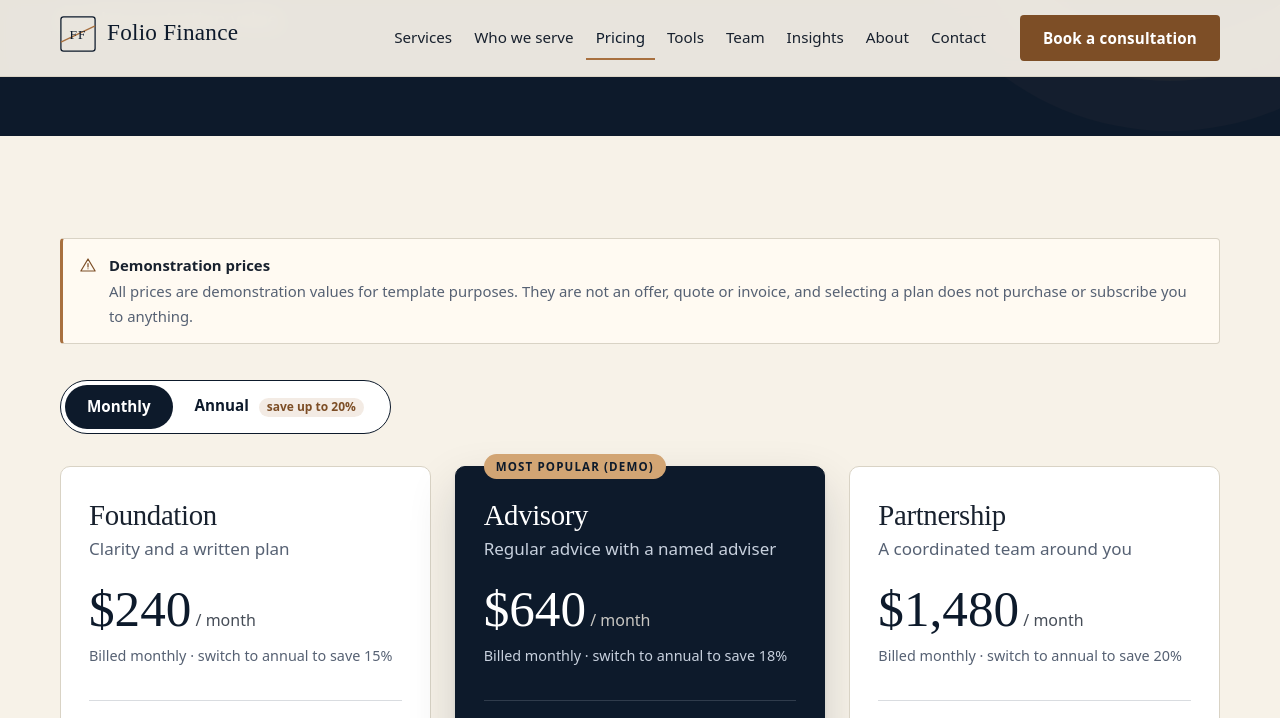
Test case: pricing › toggles billing cycle and recalculates every plan
(page scrolled)
Expected: the text with test id "price-advisory" reads "$640", [484,580,586,637]
Click the button "Annual save up to 20%" at (279, 406), box [172,384,386,428]
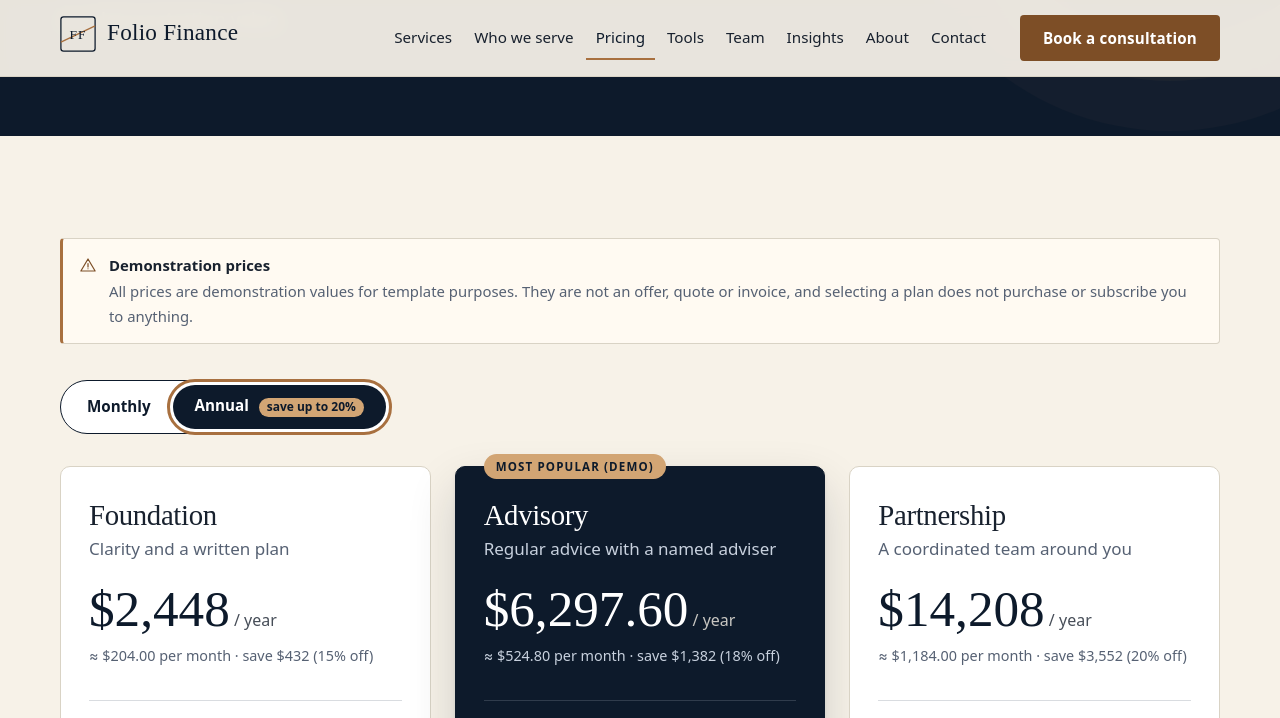
Expected: the text with test id "price-advisory" reads "$6,297.60", [484,580,688,637]
Expected: the text with test id "price-foundation" reads "$2,448", [89,580,230,637]
Click the button "Monthly" at (119, 406), box [65,384,172,428]
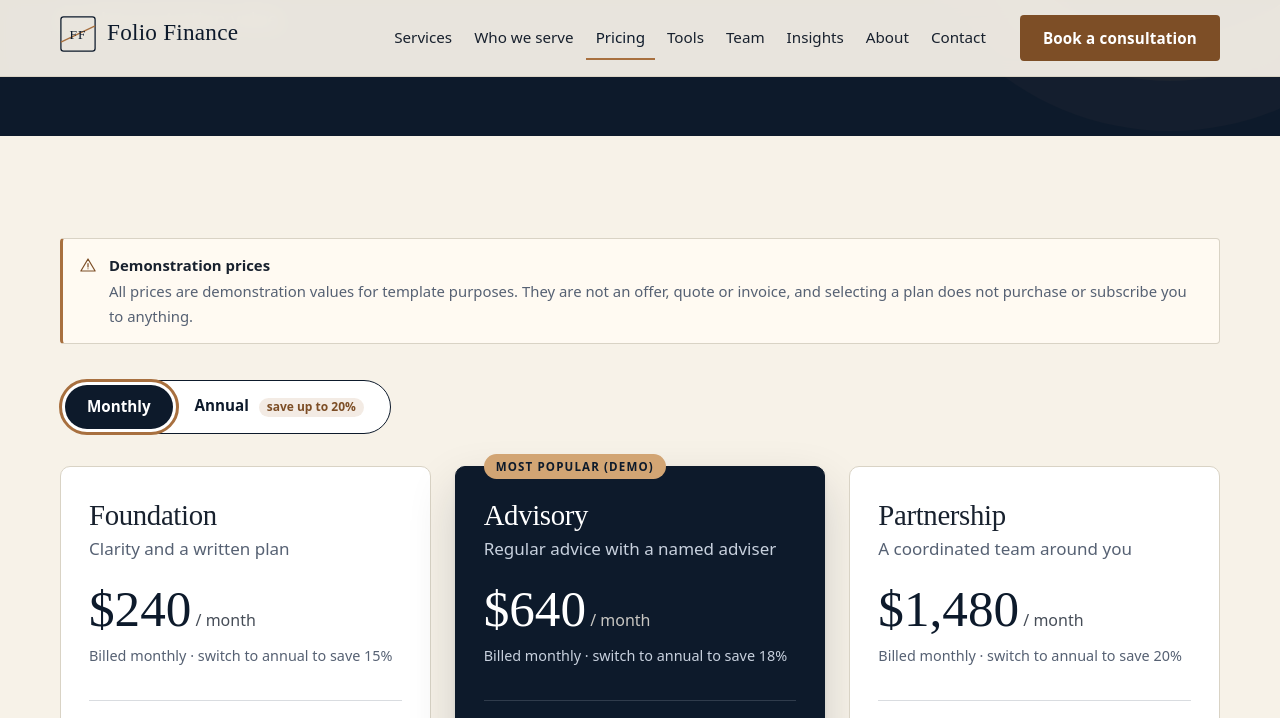
Expected: the text with test id "price-advisory" reads "$640", [484,580,586,637]
